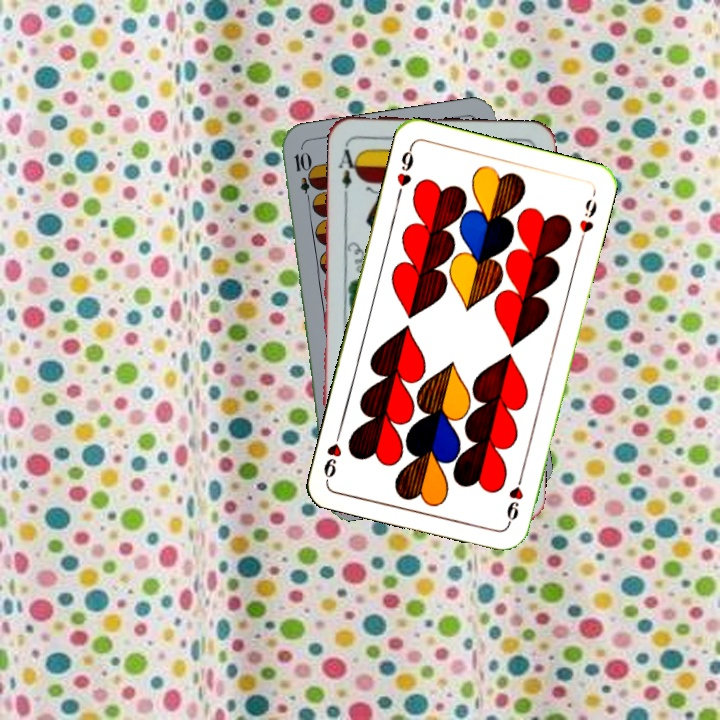E10: (290, 148, 316, 207)
EA: (334, 140, 362, 199)
H9: (392, 142, 416, 200), (502, 469, 526, 527)
